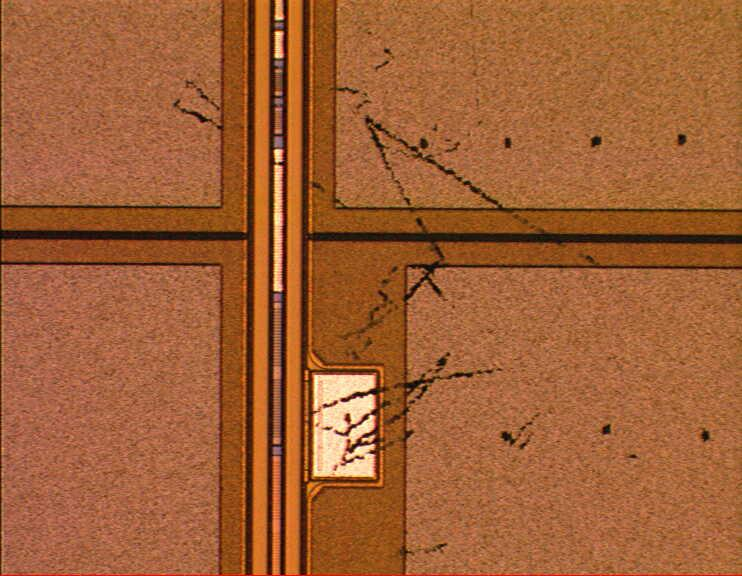SCRATCH: (165, 77, 627, 562)
